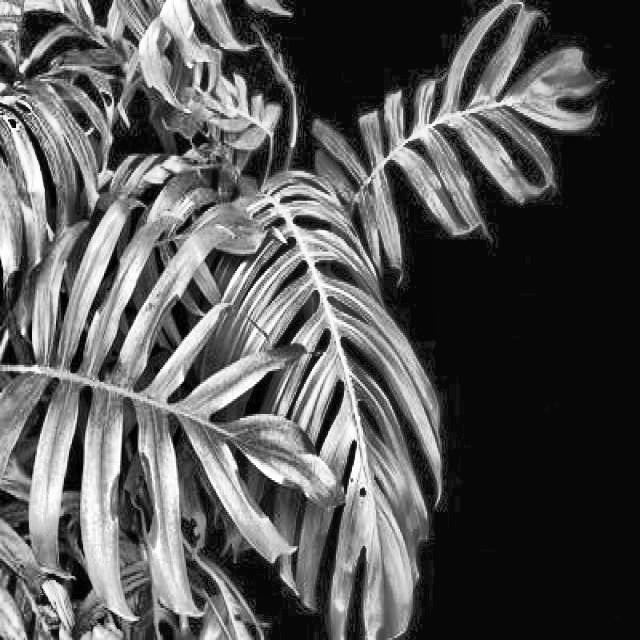plants: (0, 250, 324, 595)
